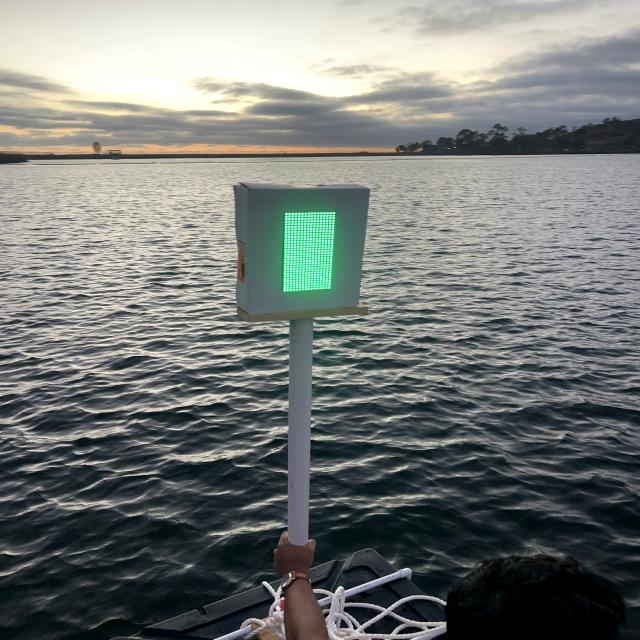led: (263, 198, 355, 301)
